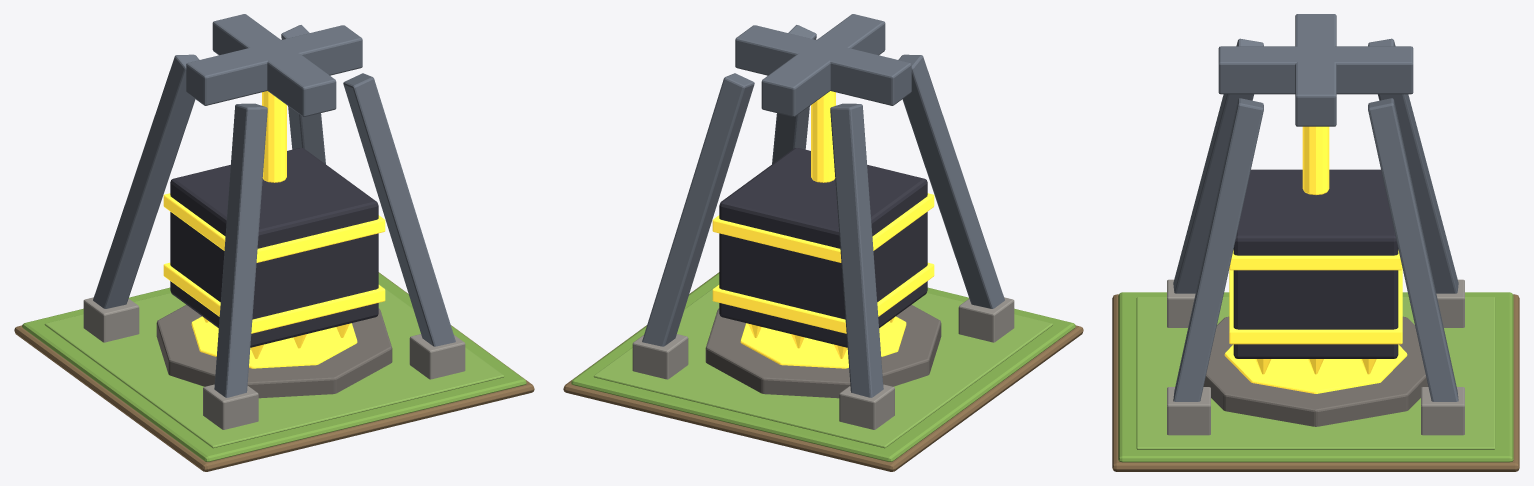
Rendered from crusher_lv8.glb.
3 views of the same model, side by side, from view 1: azimuth 30°, elevation 25°; view 2: azimuth 150°, elevation 25°; view 3: azimuth 270°, elevation 25° (orthographic). The views are drawn at different scales.
Parts seen in each view (by area): view 1: CrusherStoneBlock, Base_Inner, CrusherLeg_-1_-1, Base_Grass, CrusherLeg_1_-1, CrusherAnvilStone, CrusherLeg_-1_1, CrusherTopFrameX, Base_Dirt, CrusherTopFrameY, CrusherTargetRing, CrusherBandUpper (+6 smaller); view 2: CrusherStoneBlock, Base_Inner, CrusherLeg_-1_1, Base_Grass, CrusherLeg_1_1, CrusherAnvilStone, CrusherLeg_-1_-1, CrusherTopFrameX, Base_Dirt, CrusherTopFrameY, CrusherTargetRing, CrusherBandUpper (+6 smaller); view 3: CrusherStoneBlock, Base_Inner, Base_Grass, CrusherAnvilStone, CrusherLeg_1_1, CrusherLeg_1_-1, CrusherTopFrameY, Base_Dirt, CrusherTopFrameX, CrusherLeg_-1_1, CrusherLeg_-1_-1, CrusherTargetRing (+7 smaller).
Part boxes in pixels (x1,y1,x2,y2): CrusherStoneBlock: (170,148,378,347); Base_Inner: (44,284,504,448); CrusherLeg_-1_-1: (214,103,267,397); Base_Grass: (22,272,526,461); CrusherLeg_1_-1: (343,73,455,346); CrusherAnvilStone: (156,305,392,398); CrusherLeg_-1_1: (93,54,199,308); CrusherTopFrameX: (186,25,362,105); Base_Dirt: (14,272,534,471); CrusherTopFrameY: (212,14,336,116); CrusherTargetRing: (191,316,357,368); CrusherBandUpper: (163,193,385,262); CrusherStoneBlock: (719,148,927,347); Base_Inner: (593,284,1053,448); CrusherLeg_-1_1: (830,103,883,397); Base_Grass: (571,272,1075,461); CrusherLeg_1_1: (642,73,754,346); CrusherAnvilStone: (705,305,941,398); CrusherLeg_-1_-1: (898,54,1004,308); CrusherTopFrameX: (735,25,911,105); Base_Dirt: (563,272,1083,471); CrusherTopFrameY: (761,14,885,116); CrusherTargetRing: (740,316,906,368); CrusherBandUpper: (712,193,934,262); CrusherStoneBlock: (1233,169,1398,358); Base_Inner: (1136,297,1495,449); Base_Grass: (1118,292,1513,462); CrusherAnvilStone: (1203,316,1428,426); CrusherLeg_1_1: (1368,98,1458,401); CrusherLeg_1_-1: (1173,98,1263,401); CrusherTopFrameY: (1218,46,1413,94); Base_Dirt: (1112,294,1519,471); CrusherTopFrameX: (1295,14,1336,126); CrusherLeg_-1_1: (1368,38,1458,293); CrusherLeg_-1_-1: (1173,38,1263,293); CrusherTargetRing: (1224,344,1407,393).
Bounding box in the file's own units: 2.76 × 2.49 × 2.76.
